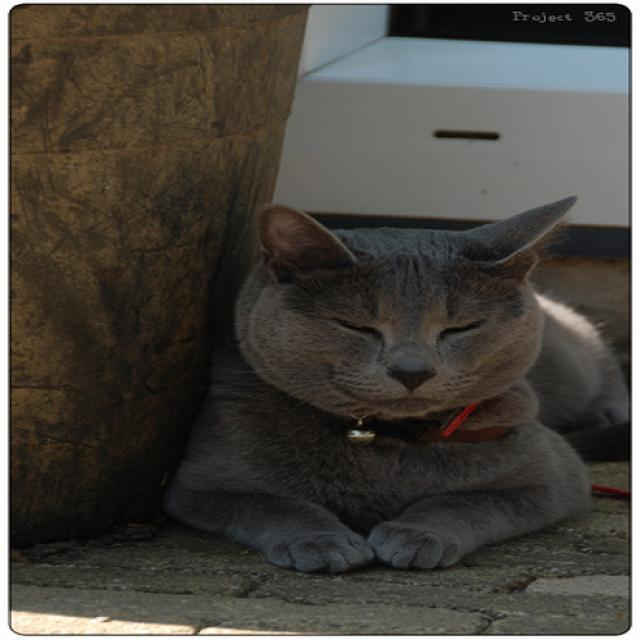Russian_Blue: (239, 191, 593, 434)
